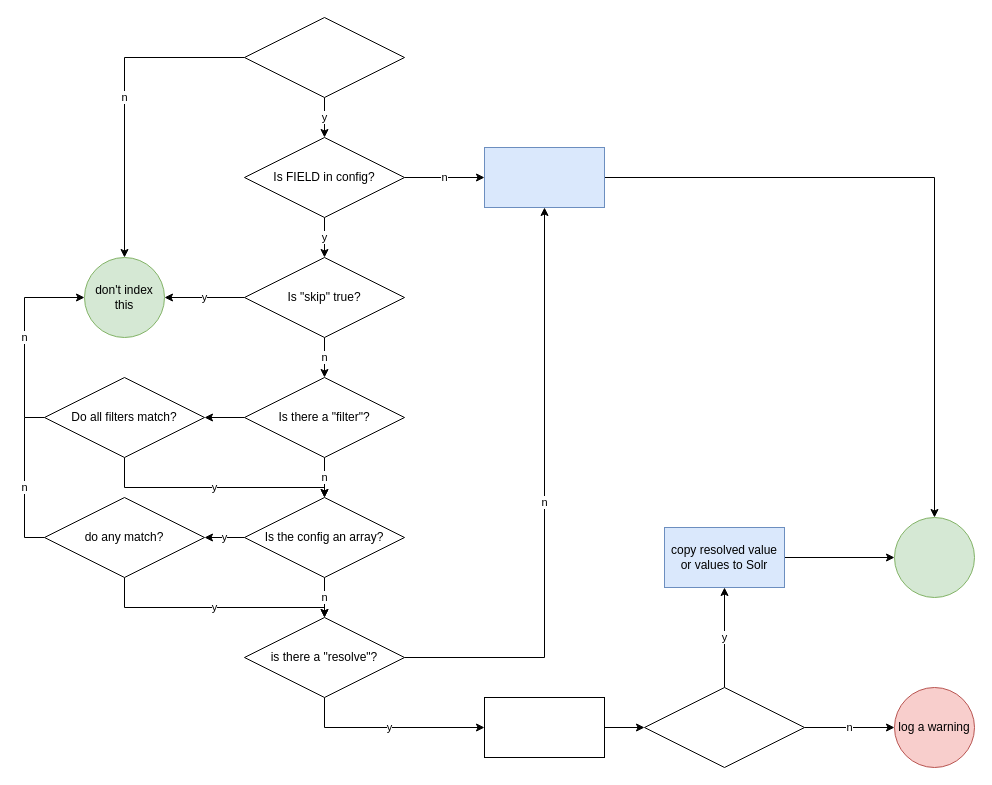
Some shapes in this 992 by 785 pixel diagram are drawn without their labels. Each missing label, with the centre of its shape:
copy raw value to Solr: (x=544, y=177)
done: (x=934, y=557)
Is @type in "types"?: (x=324, y=57)
is there a resolved value or values?: (x=724, y=727)
try to resolve field: (x=544, y=727)
